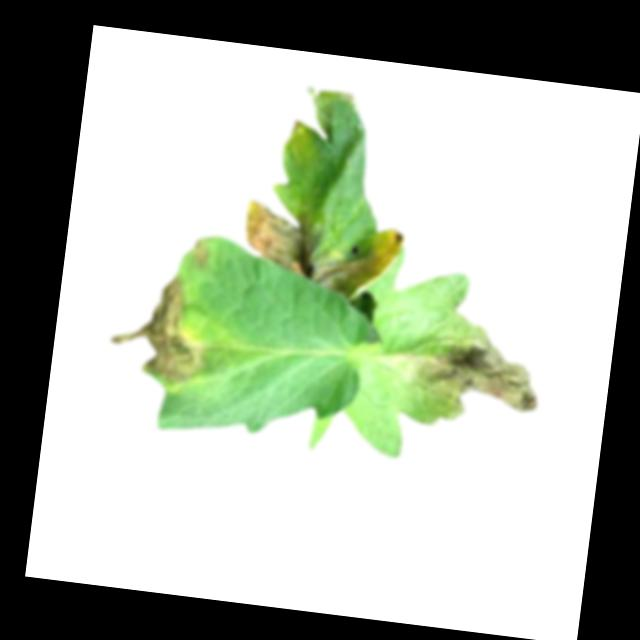Late_blight: (236, 196, 407, 306), (392, 317, 547, 437), (102, 270, 218, 387), (189, 235, 213, 269)
